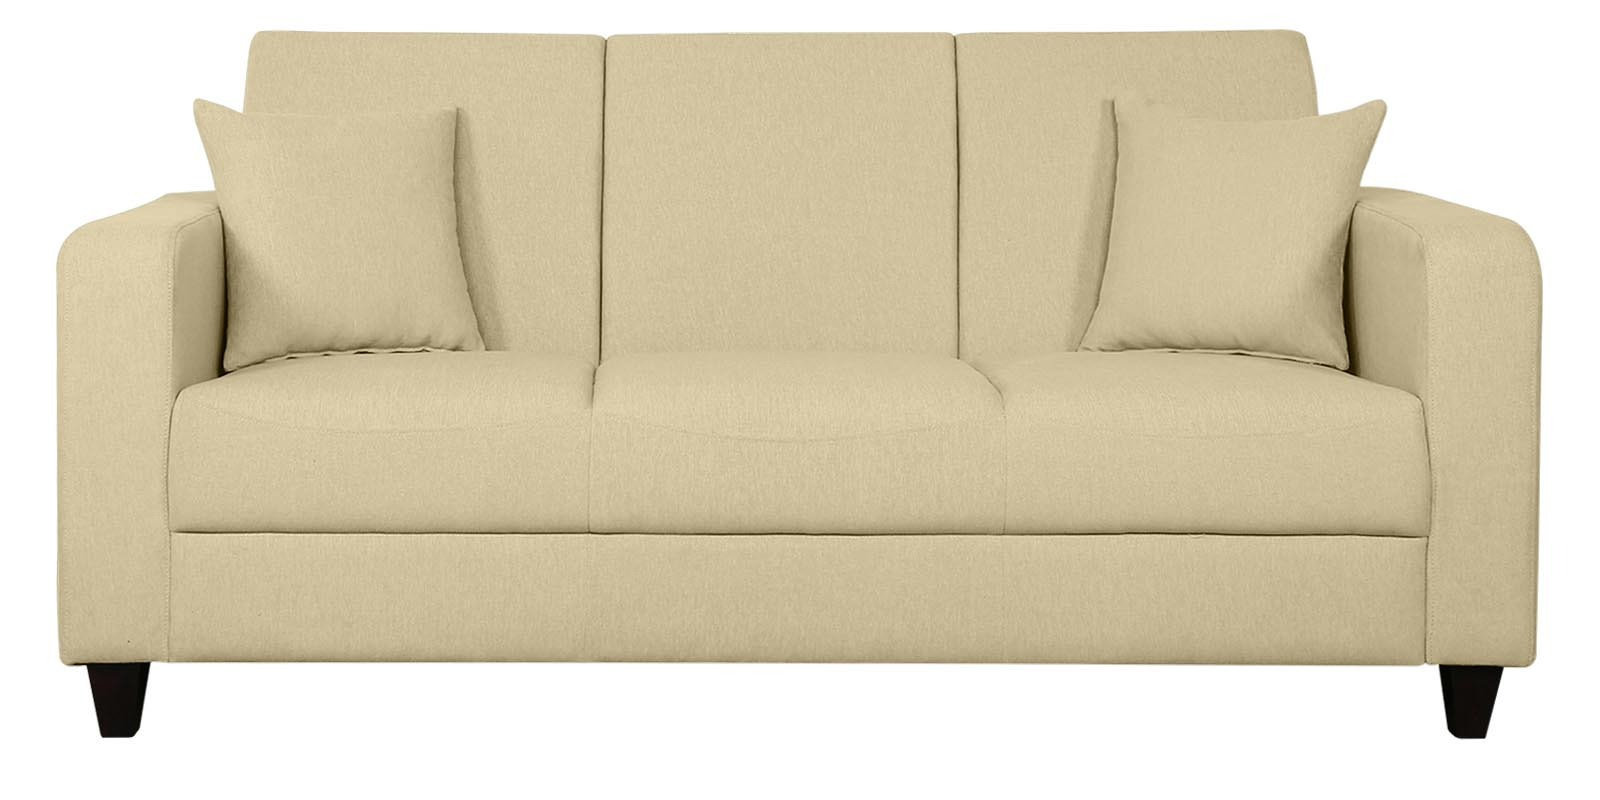Alba Three Seater Sofa in Beige Colour by CasaCraft: (51, 22, 1554, 760)
